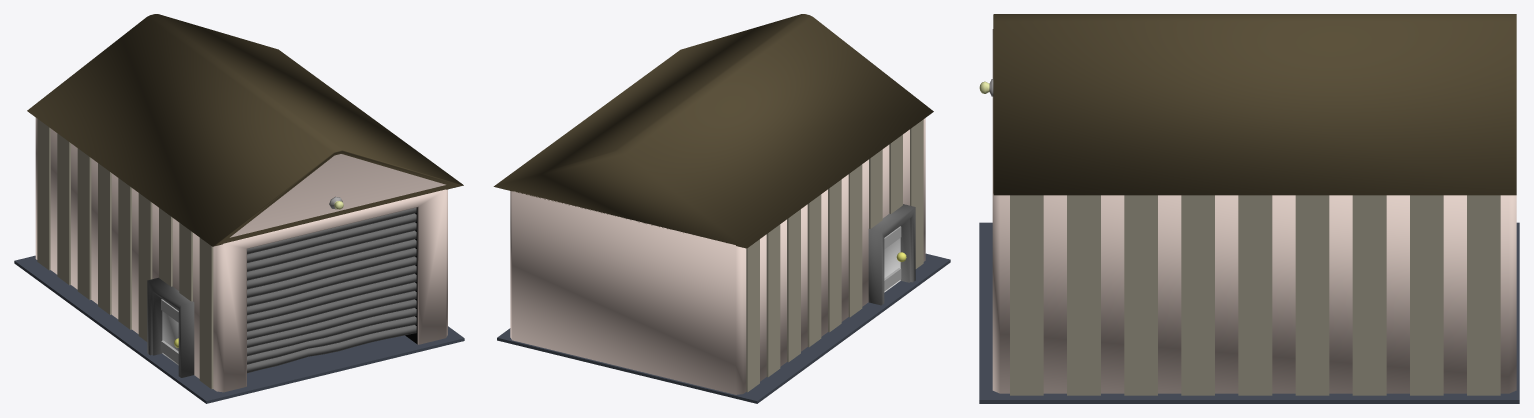
The model's file is Barn2.glb.
3 views of the same model, side by side, from view 1: azimuth 30°, elevation 25°; view 2: azimuth 150°, elevation 25°; view 3: azimuth 270°, elevation 25° (orthographic). The views are drawn at different scales.
Visible parts, largest first — view 1: Cube.001, Cube.002, Cube, Cube.004, Cube.003, Cube.006; view 2: Cube.001, Cube, Cube.004, Cube.003, Cube.006; view 3: Cube.001, Cube.005, Cube, Cube.003.
Boxes of the visible parts, x1,y1,x2,y2 form: Cube.001: [27, 14, 463, 246]; Cube.002: [247, 207, 416, 373]; Cube: [35, 118, 447, 392]; Cube.004: [37, 119, 213, 389]; Cube.003: [14, 255, 464, 403]; Cube.006: [147, 277, 194, 377]; Cube.001: [493, 14, 933, 248]; Cube: [510, 118, 925, 394]; Cube.004: [746, 119, 923, 392]; Cube.003: [497, 253, 950, 403]; Cube.006: [868, 204, 915, 305]; Cube.001: [993, 14, 1516, 195]; Cube.005: [1010, 195, 1500, 395]; Cube: [992, 29, 1516, 393]; Cube.003: [979, 222, 1519, 403].
Size of the model in its own units: 6.6 by 5.19 by 8.35.
